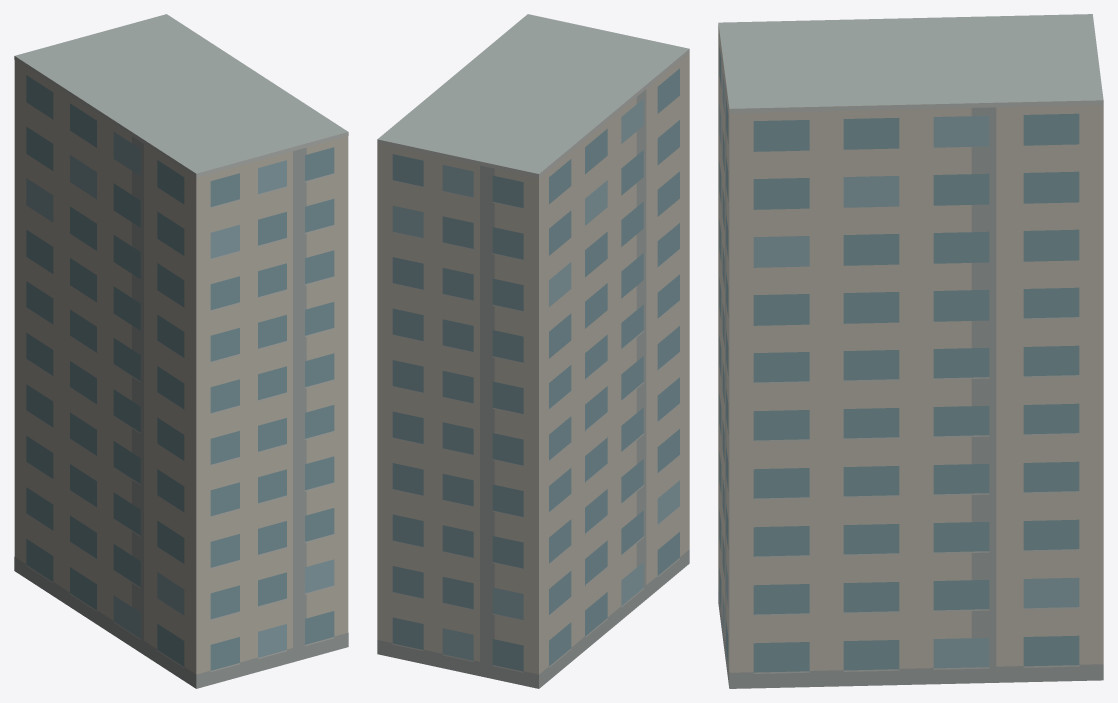
Rendered from residential-2466298f-2b38-4b8f-9cab-fd14c3e40796.glb.
3 views of the same model, side by side, from view 1: azimuth 30°, elevation 25°; view 2: azimuth 150°, elevation 25°; view 3: azimuth 270°, elevation 25° (orthographic). The views are drawn at different scales.
Parts seen in each view (by area): view 1: residential-2466298f-2b38-4b8f-9cab-fd14c3e40796.tmp; view 2: residential-2466298f-2b38-4b8f-9cab-fd14c3e40796.tmp; view 3: residential-2466298f-2b38-4b8f-9cab-fd14c3e40796.tmp.
Part boxes in pixels (x1=…): residential-2466298f-2b38-4b8f-9cab-fd14c3e40796.tmp: x1=14, y1=14, x2=348, y2=688; residential-2466298f-2b38-4b8f-9cab-fd14c3e40796.tmp: x1=377, y1=14, x2=689, y2=688; residential-2466298f-2b38-4b8f-9cab-fd14c3e40796.tmp: x1=718, y1=14, x2=1103, y2=688.
Size of the model in its own units: 10.88 by 31 by 18.67.
